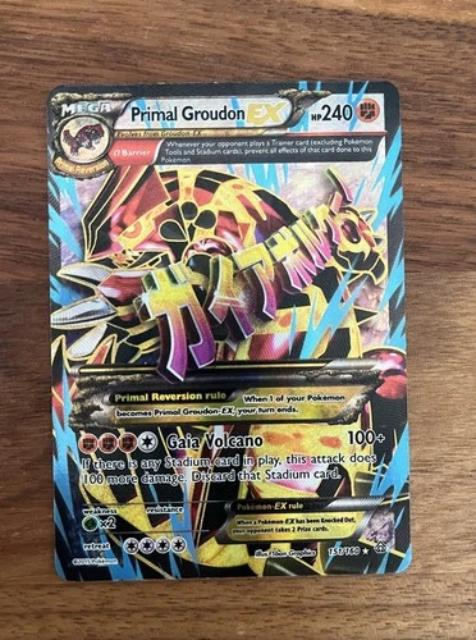Card: (40, 73, 417, 587)
Name: (126, 96, 294, 127)
